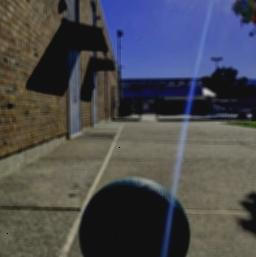algae: (83, 179, 189, 257)
